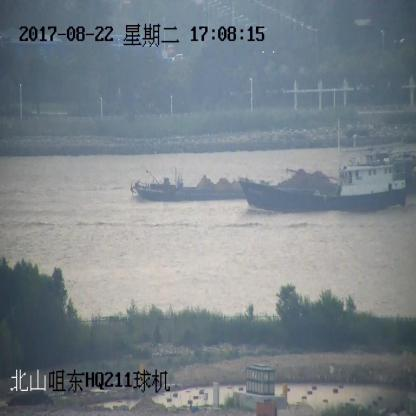Fishing Boat: (240, 150, 408, 210)
